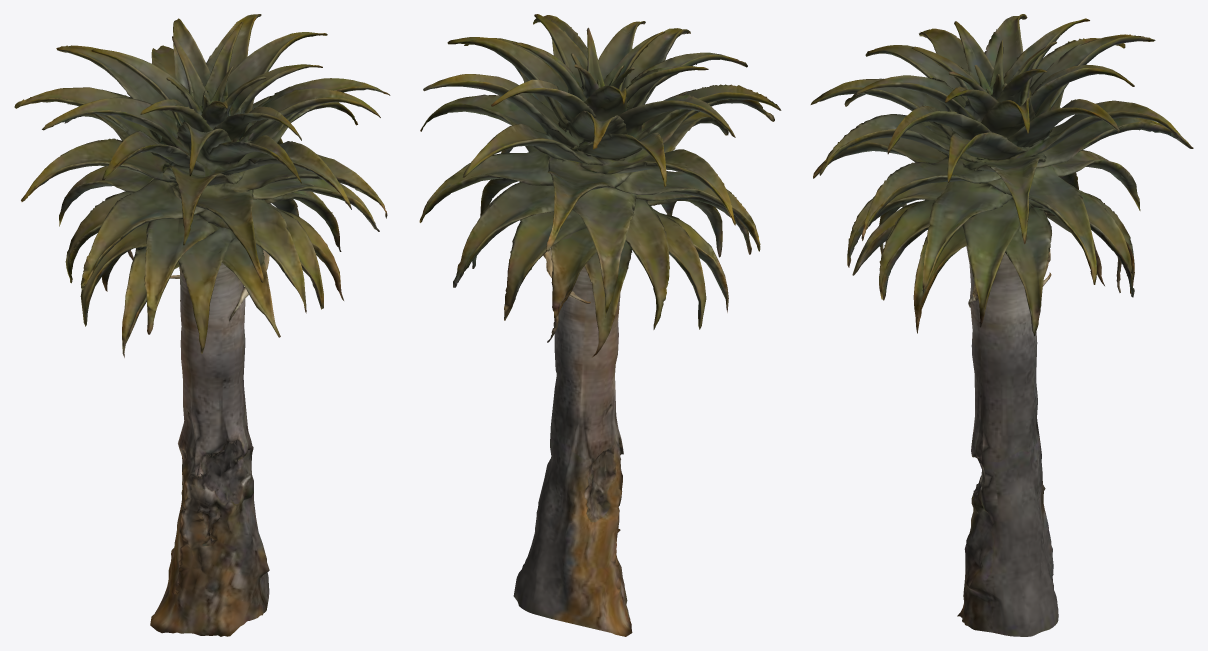
Rendered from quiver-tree-02.glb.
3 renders of one model, left to right at view 1: azimuth 30°, elevation 25°; view 2: azimuth 150°, elevation 25°; view 3: azimuth 270°, elevation 25°, orthographic.
Visible parts, largest first — view 1: quiver_tree_02; view 2: quiver_tree_02; view 3: quiver_tree_02.
Boxes of the visible parts, x1,y1,x2,y2 form: quiver_tree_02: [14, 14, 390, 636]; quiver_tree_02: [419, 14, 781, 636]; quiver_tree_02: [810, 14, 1193, 636].
Size of the model in its own units: 0.8717 by 1.47 by 0.8805.
1 material, 1 textured.
